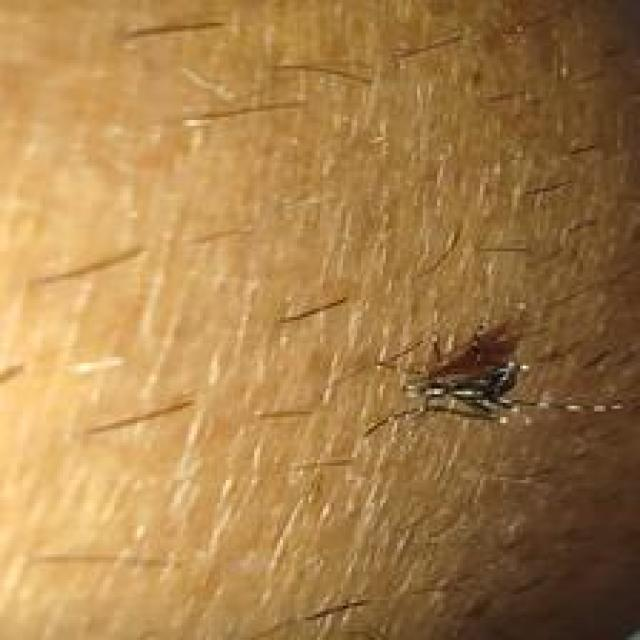Aedes albopictus: (363, 314, 640, 440)
